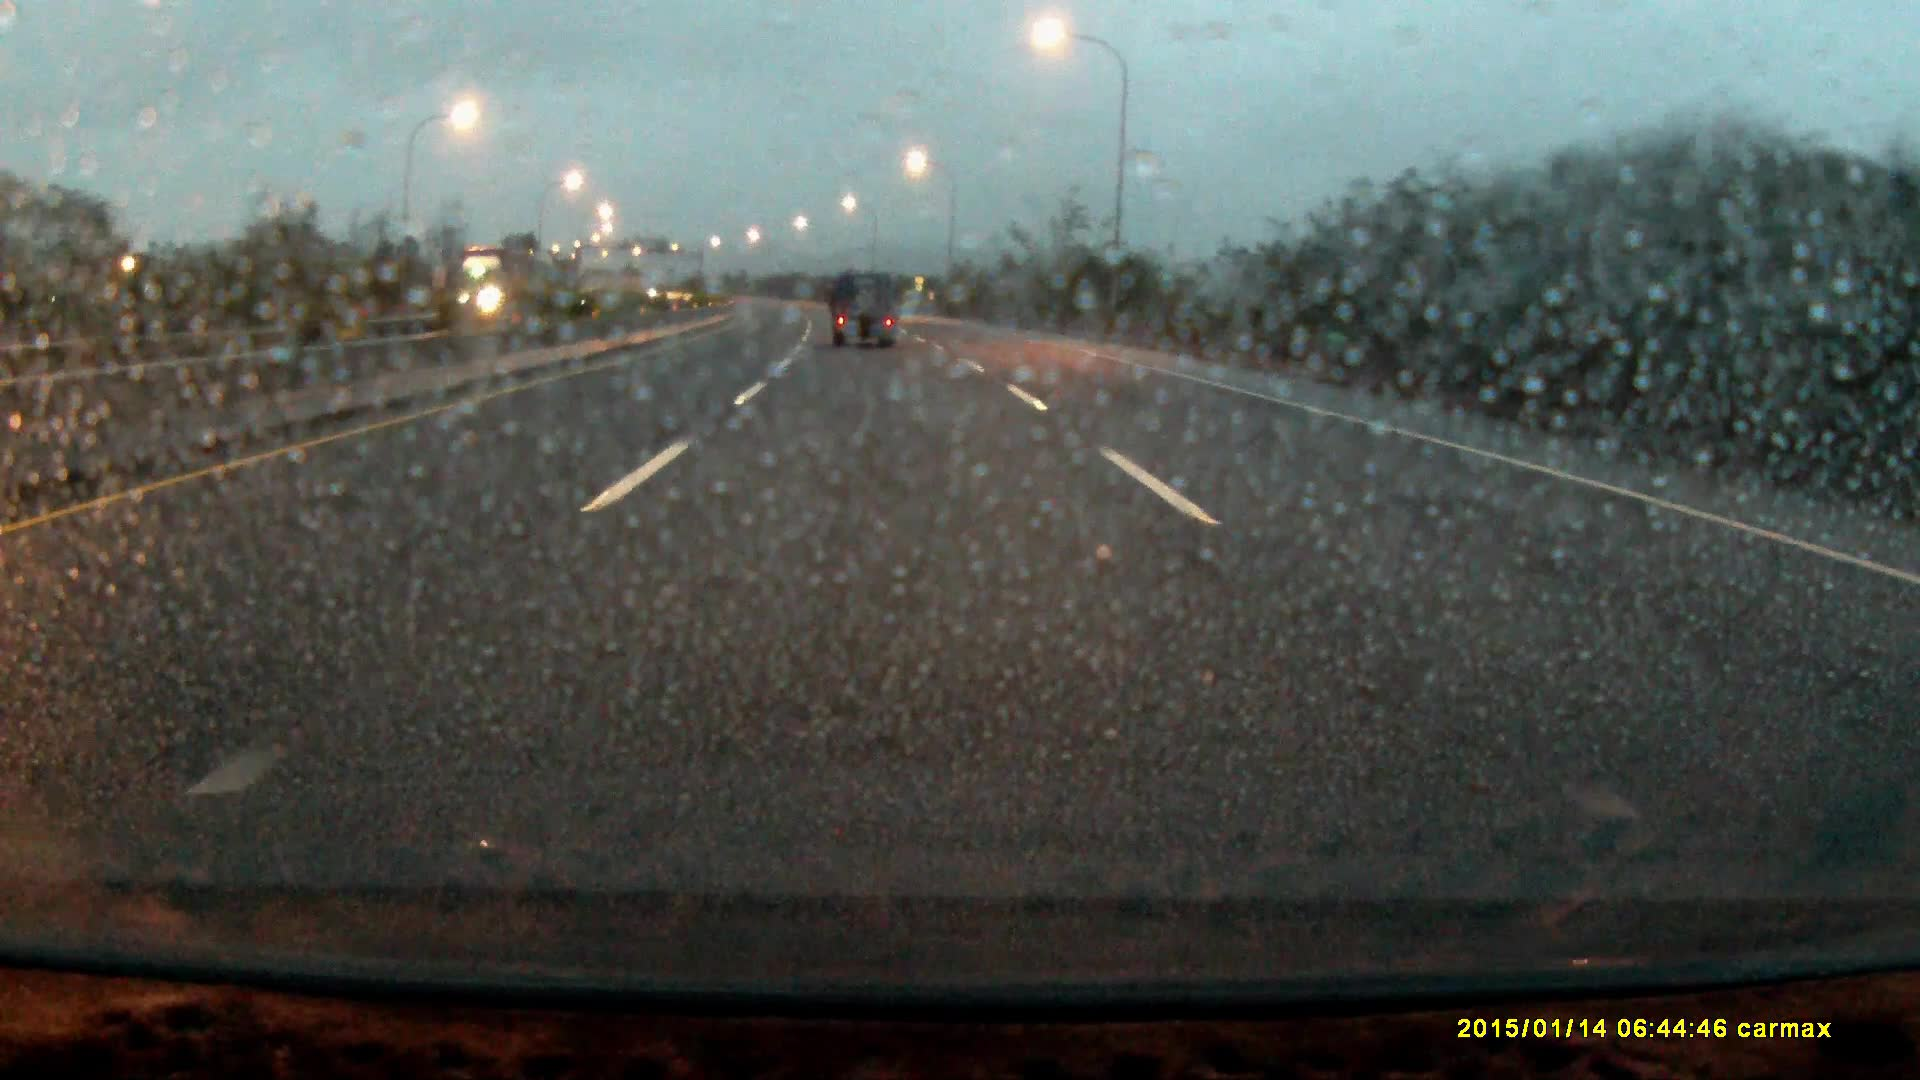vehicle: (440, 247, 549, 332), (832, 272, 902, 351)
